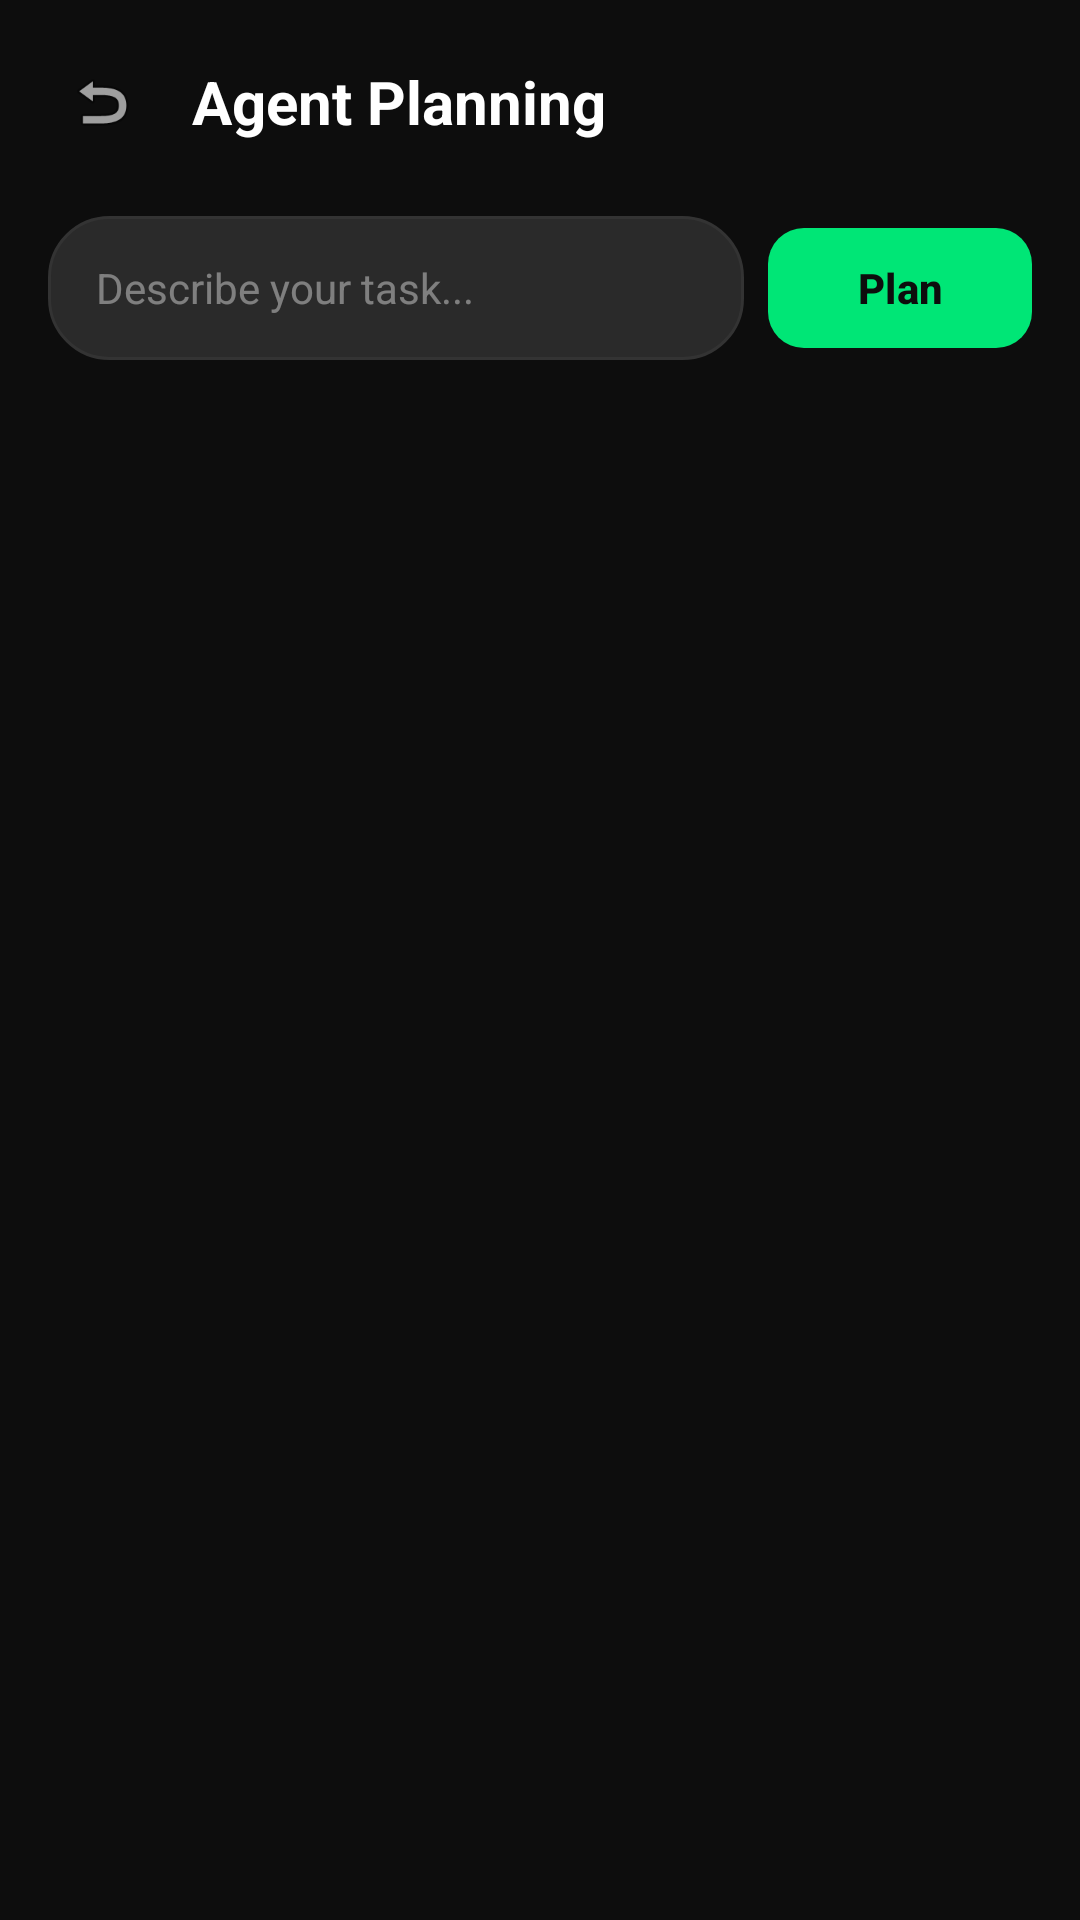

Point at icon controls on the screen. Image size 1080 × 1920, points as point (x, y).
Back: point (103, 102)
